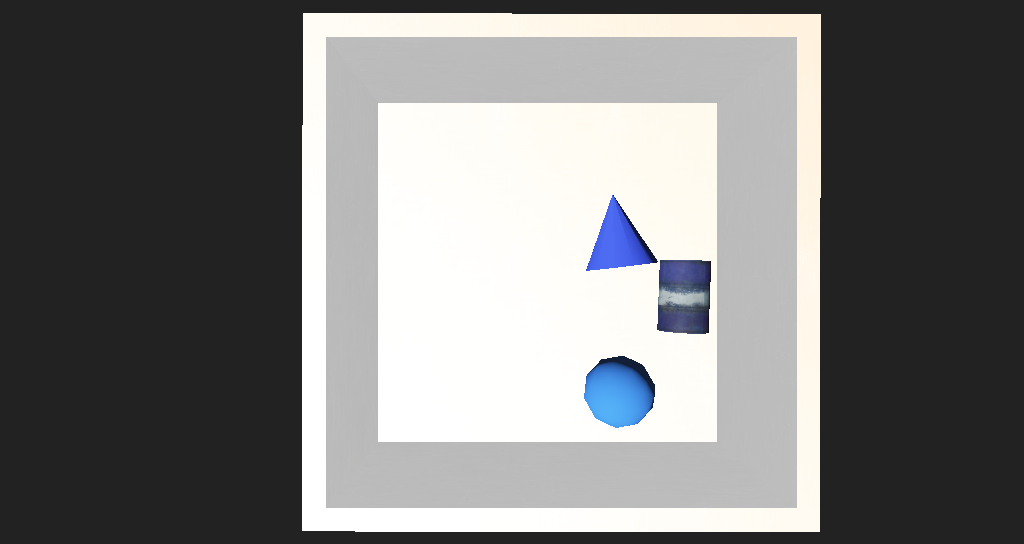cone: (600, 258, 653, 305)
cylinder: (519, 210, 613, 267)
sphere: (532, 322, 600, 365)
